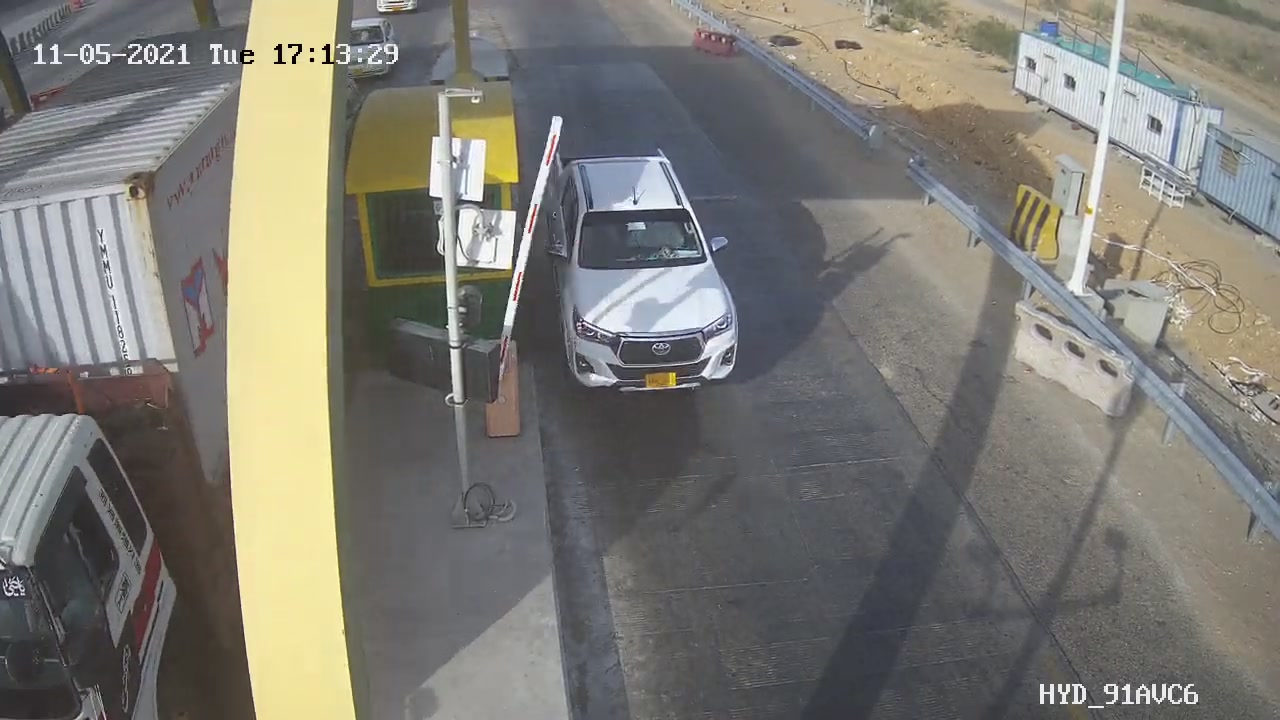F1: (520, 130, 766, 411)
